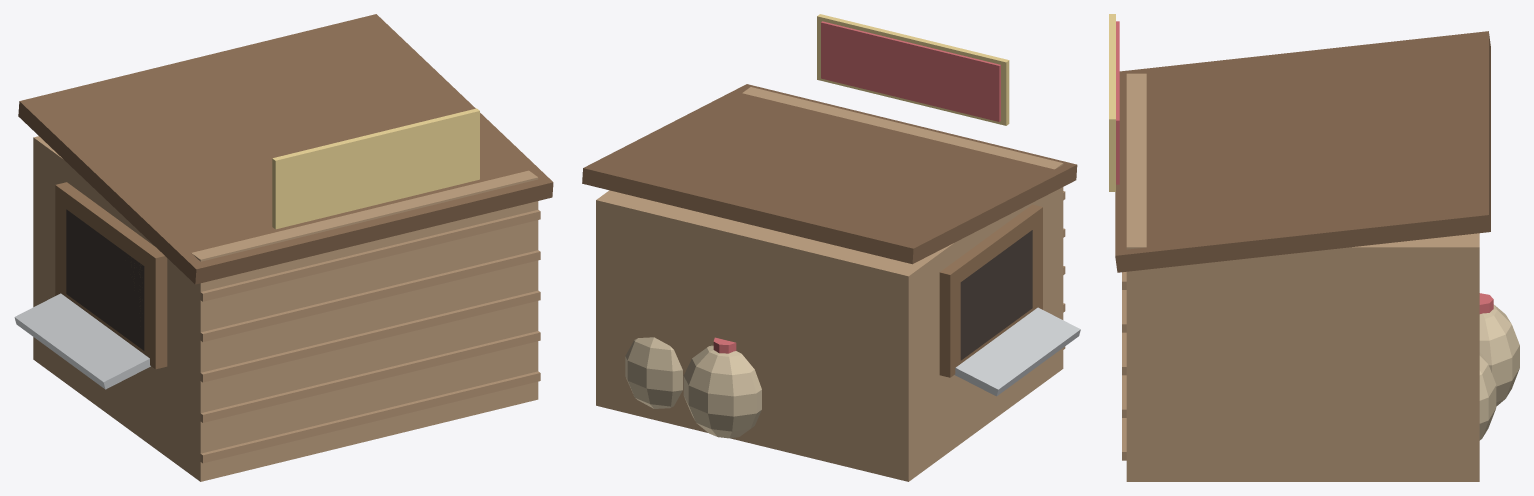
Rendered from station_shipping.glb.
3 renders of one model, left to right at view 1: azimuth 30°, elevation 25°; view 2: azimuth 150°, elevation 25°; view 3: azimuth 270°, elevation 25°, orthographic. The views are drawn at different scales.
Parts seen in each view (by area): view 1: Body, Roof, Board.0, Sign trim, Chute mouth, Chute frame, Chute lip; view 2: Body, Roof, Sign, Sack.0, Chute mouth, Chute frame, Chute lip, Sign trim; view 3: Body, Roof, Sack.0, Sign trim, Board.0, Sign.
Boxes of the visible parts, x1,y1,x2,y2 form: Body: [33, 136, 538, 481]; Roof: [18, 14, 553, 284]; Board.0: [200, 209, 540, 463]; Sign trim: [272, 108, 479, 229]; Chute mouth: [66, 209, 144, 350]; Chute frame: [55, 182, 167, 369]; Chute lip: [14, 293, 150, 389]; Body: [596, 87, 1063, 481]; Roof: [582, 84, 1077, 264]; Sign: [713, 21, 1000, 353]; Sack.0: [625, 337, 761, 438]; Chute mouth: [960, 230, 1032, 360]; Chute frame: [939, 204, 1042, 377]; Chute lip: [954, 307, 1080, 396]; Sign trim: [817, 14, 1009, 125]; Body: [1126, 73, 1479, 481]; Roof: [1115, 31, 1490, 272]; Sack.0: [1479, 304, 1519, 440]; Sign trim: [1109, 14, 1115, 191]; Board.0: [1122, 272, 1126, 460]; Sign: [1116, 21, 1493, 313].
Bounding box in the file's own units: 2.1 × 1.54 × 1.75.
